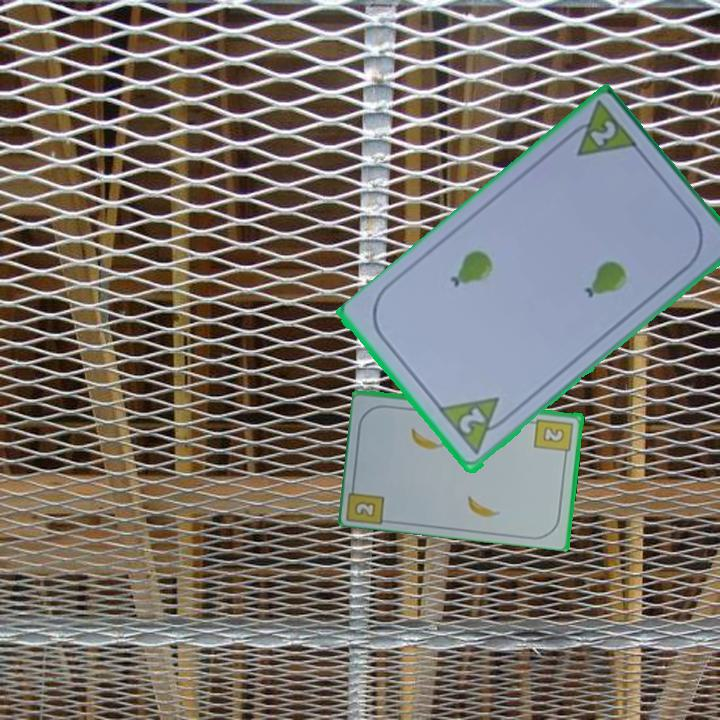2b: (345, 478, 388, 526), (531, 415, 576, 460)
2p: (559, 99, 642, 161), (436, 394, 515, 459)
